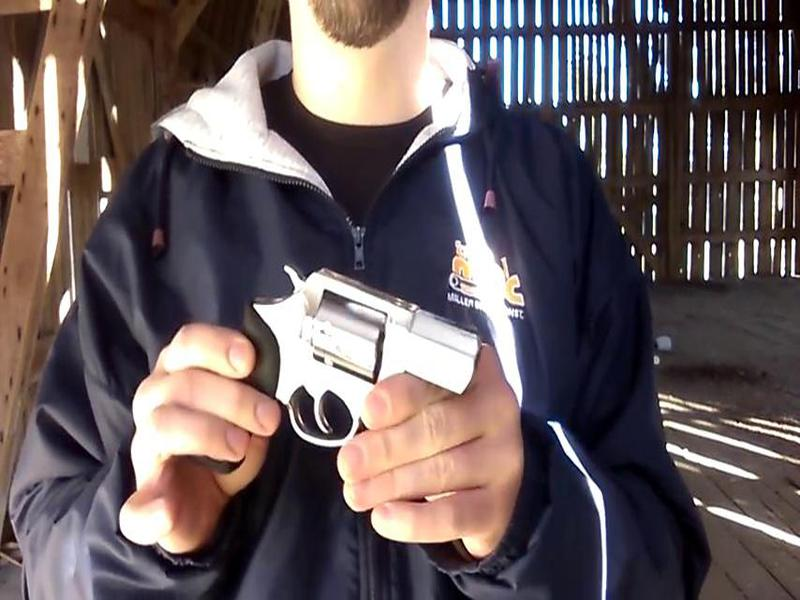Revolver: (237, 251, 487, 457)
